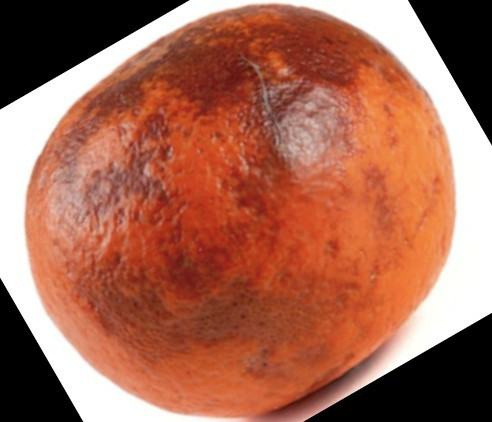rotten_orange: (25, 7, 457, 416)
